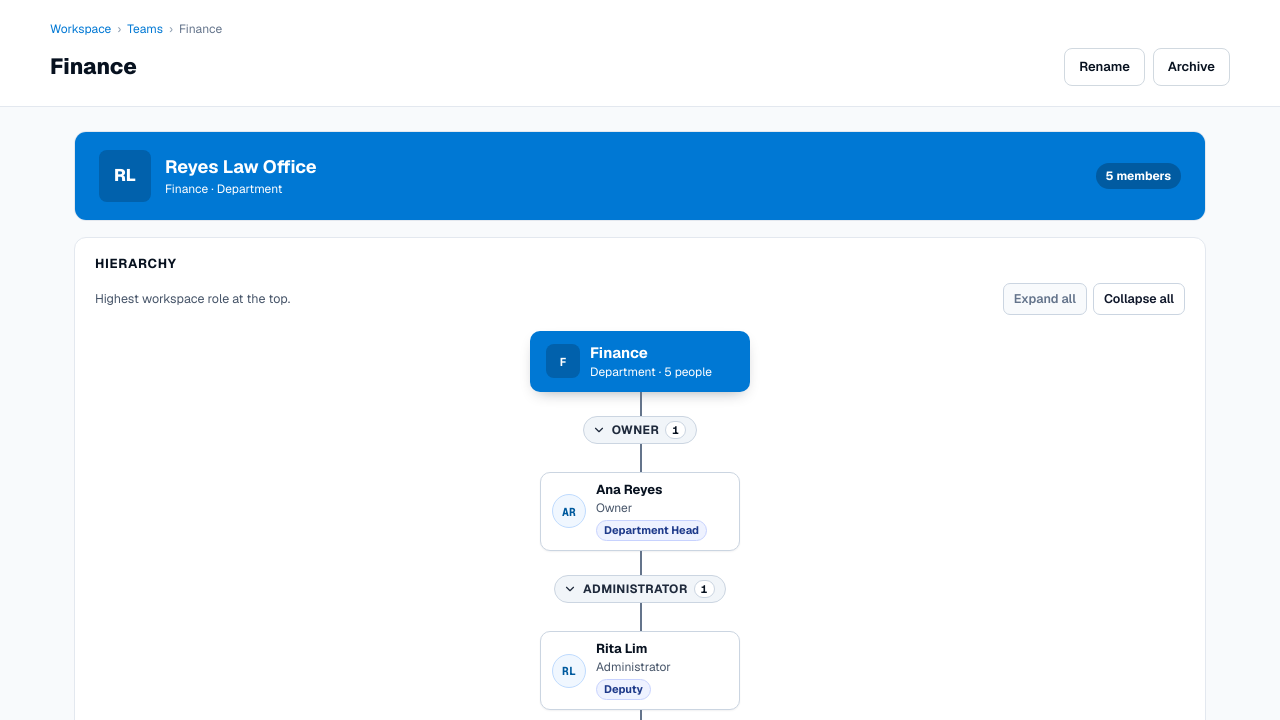
Test case: Team detail — hierarchy tree › collapse all / expand all
Expected: the list item "AR Ana Reyes Owner Department Head" is shown, [534,458,746,551]
Click the button "Collapse all" at (1139, 299), box [1093,283,1185,315]
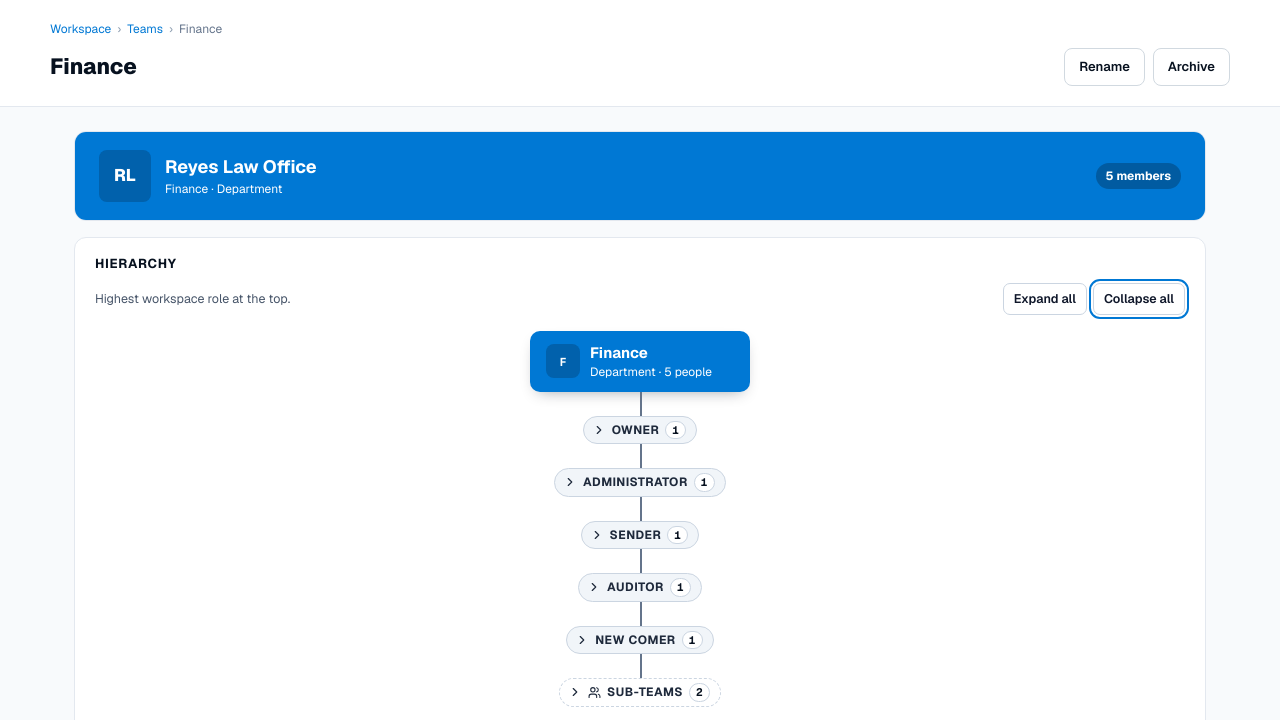
Expected: the text "Ana Reyes" is gone
Expected: the list item with aria-label "Owner, 1" is collapsed, [583,392,697,444]
Click the button "Expand all" at (1045, 299), box [1003,283,1087,315]
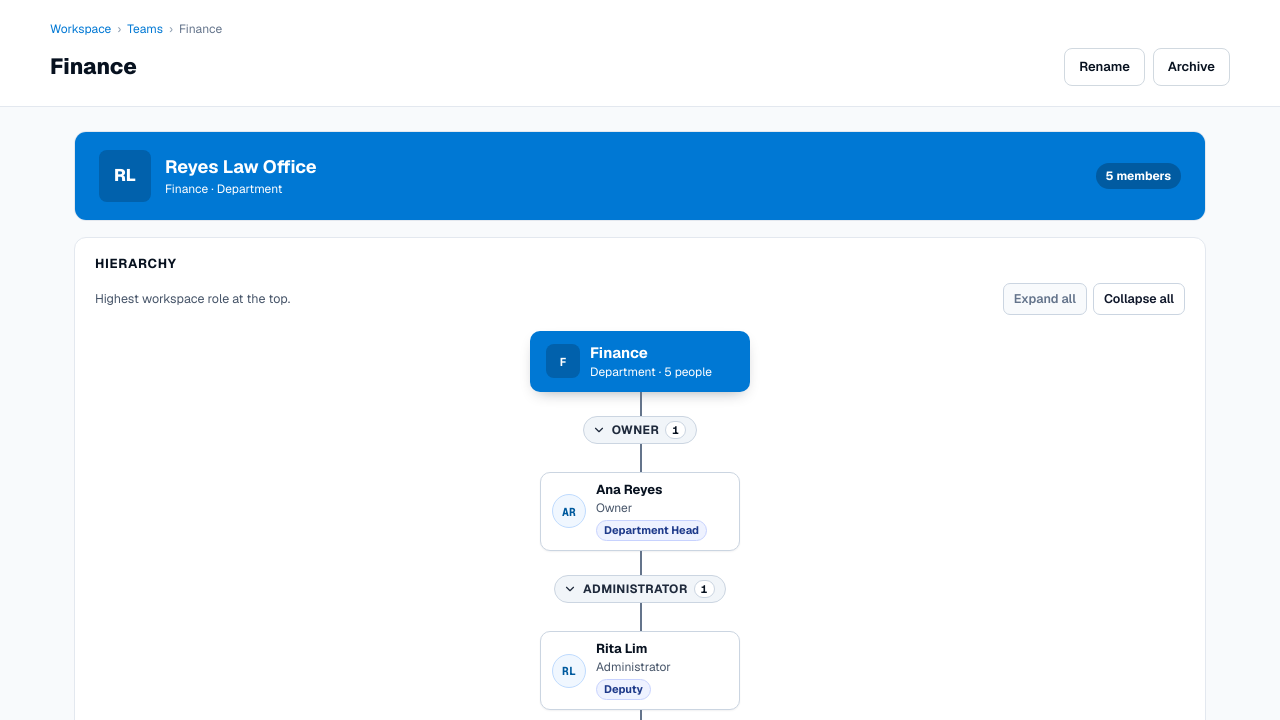
Expected: the list item "AR Ana Reyes Owner Department Head" is shown, [534,458,746,551]
